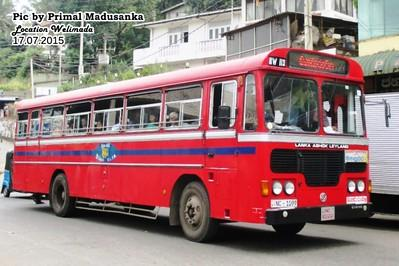motorbike: (12, 45, 390, 239)
